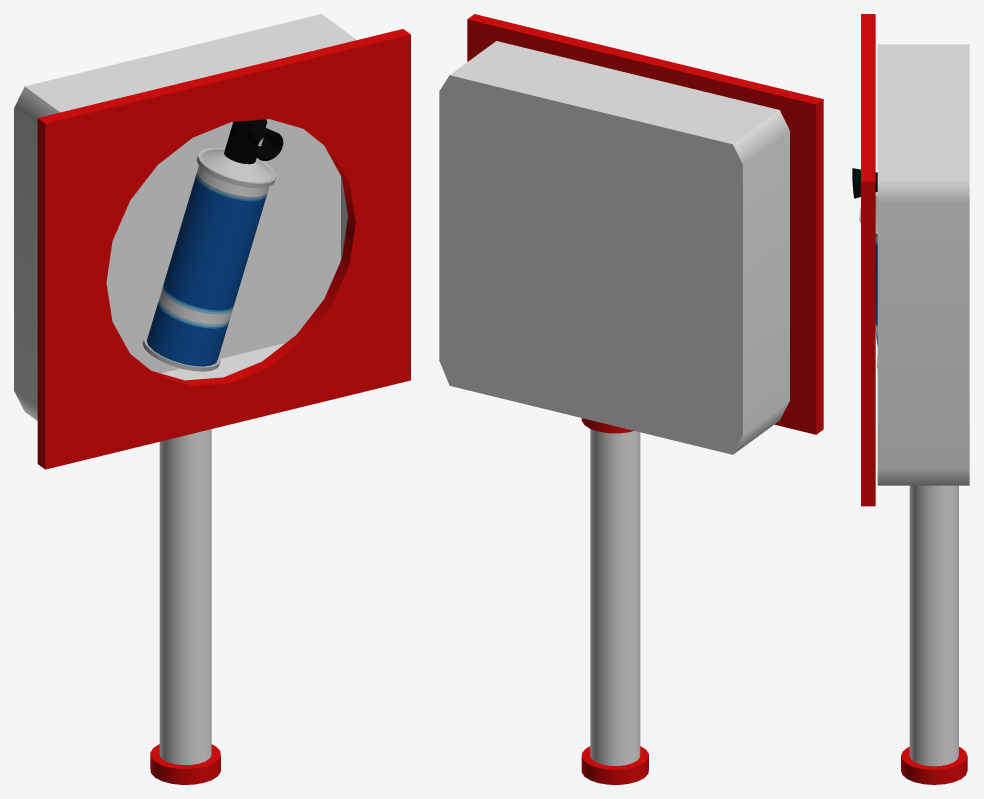
The model's file is Sign.fbx.
3 renders of one model, left to right at view 1: azimuth 30°, elevation 25°; view 2: azimuth 150°, elevation 25°; view 3: azimuth 270°, elevation 25°, orthographic. The views are drawn at different scales.
Parts seen in each view (by area): view 1: pCube4, pCube1, pCylinder2, pCylinder1, pCylinder4, pPipe1; view 2: pCube1, pCube4, pCylinder2, pCylinder4; view 3: pCube1, pCylinder2, pCube4, pCylinder4, pCylinder1, pPipe1.
Part boxes in pixels (x1,y1,x2,y2): pCube4: [37, 29, 410, 469]; pCube1: [14, 14, 356, 420]; pCylinder2: [159, 429, 211, 764]; pCylinder1: [142, 119, 276, 371]; pCylinder4: [150, 744, 220, 784]; pPipe1: [247, 125, 283, 160]; pCube1: [439, 41, 789, 454]; pCube4: [467, 14, 823, 434]; pCylinder2: [590, 429, 640, 765]; pCylinder4: [581, 746, 648, 784]; pCube1: [877, 44, 969, 485]; pCylinder2: [909, 485, 958, 766]; pCube4: [861, 14, 875, 506]; pCylinder4: [901, 747, 967, 784]; pCylinder1: [859, 192, 877, 368]; pPipe1: [852, 168, 877, 198].
Bounding box in the file's own units: 4.3 × 8.08 × 1.27.
